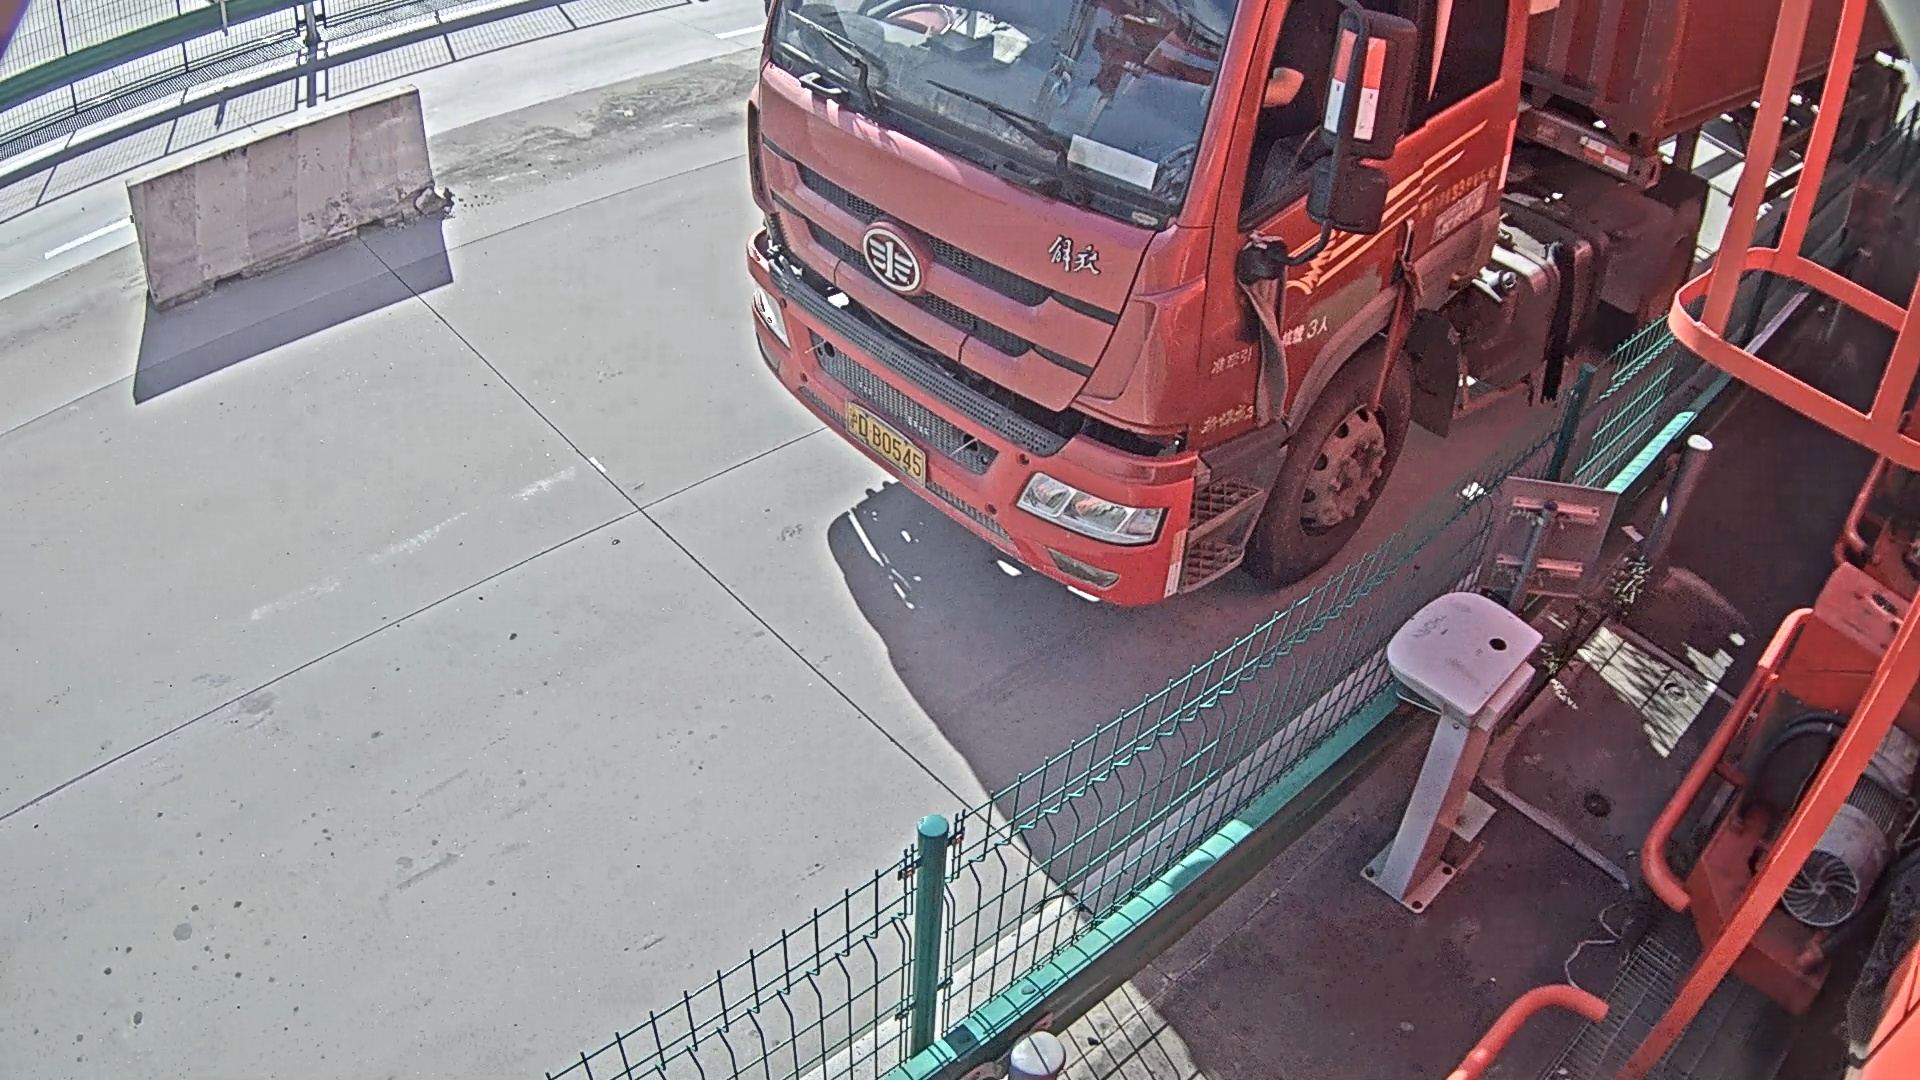head: (752, 1, 1536, 599)
plate: (841, 399, 921, 483)
